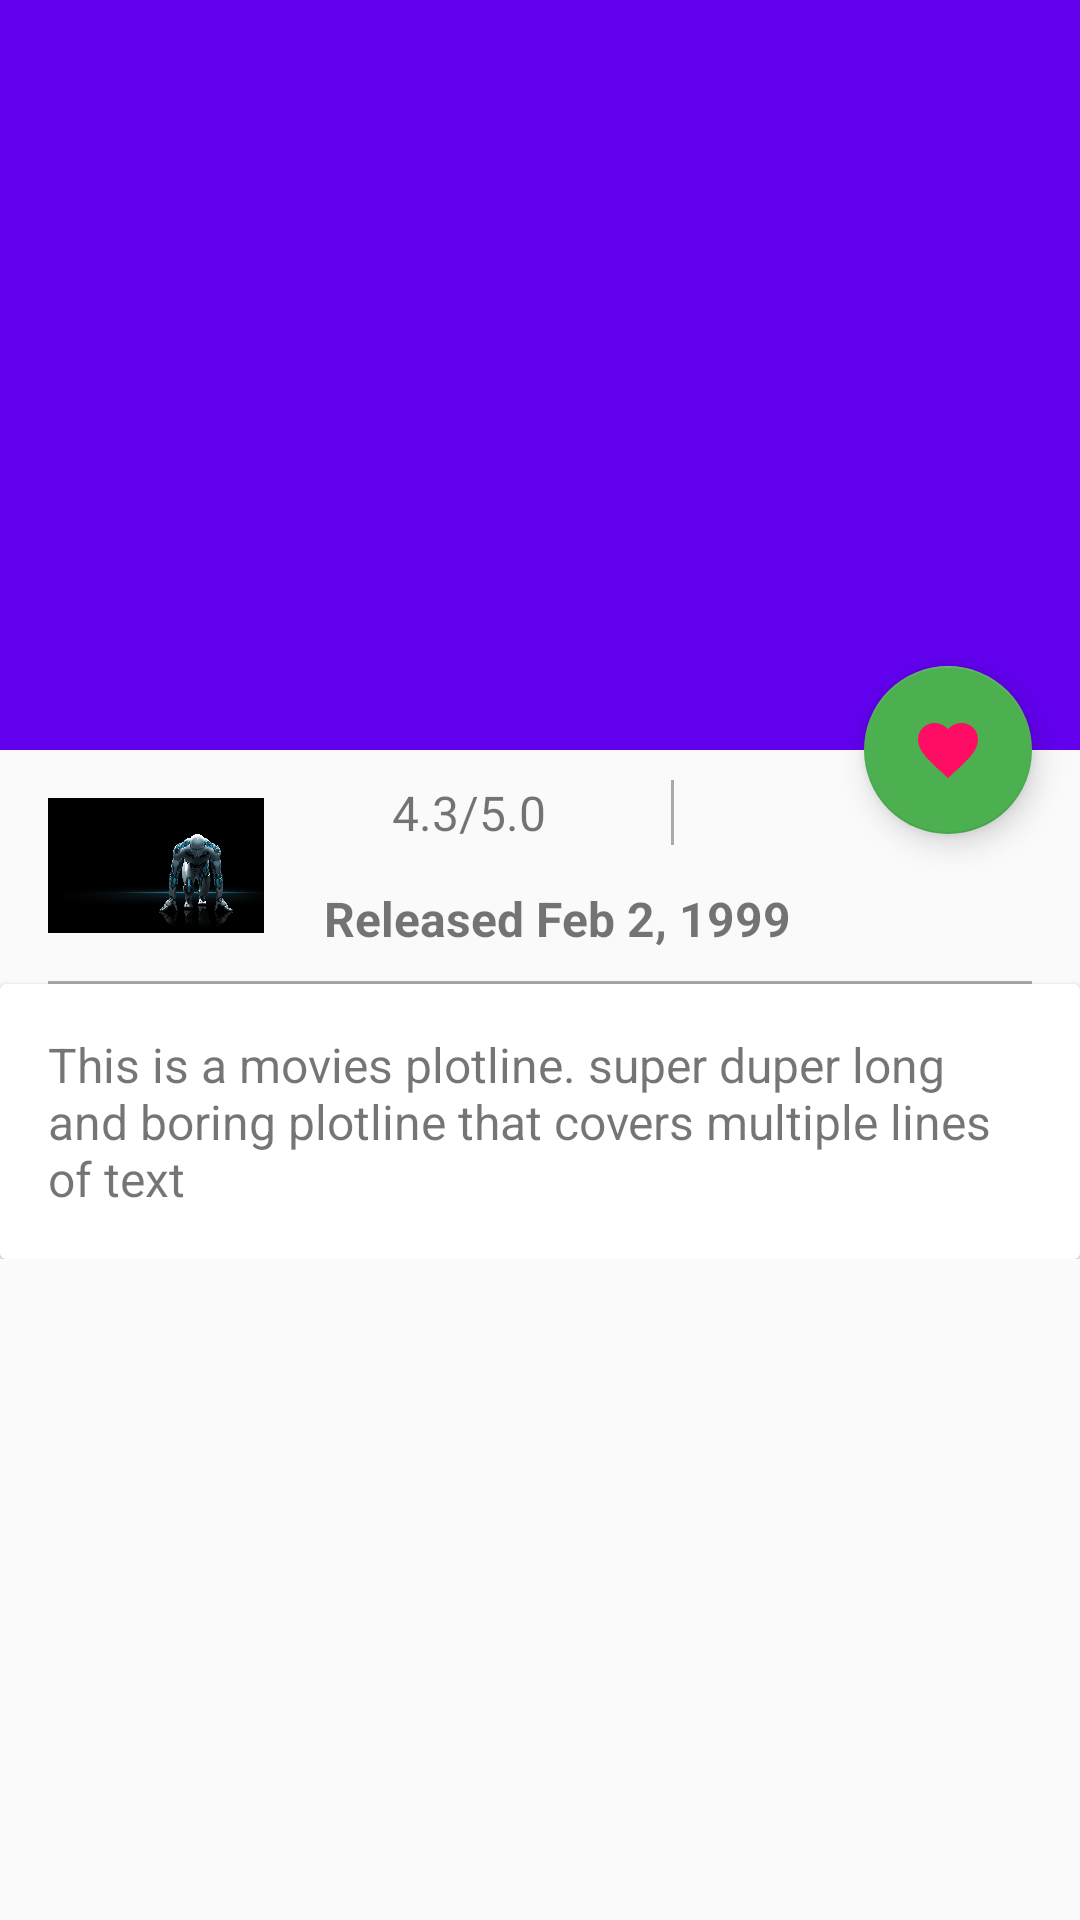

Where to tap for icons on this 1080 × 1920 app screen, as point (x, y):
favorite: point (948, 750)
